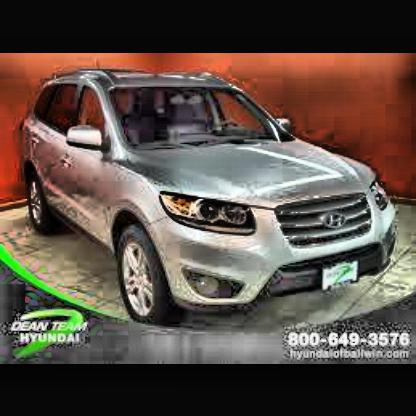Hyundai Santa Fe SUV 2012: (21, 69, 404, 330)
